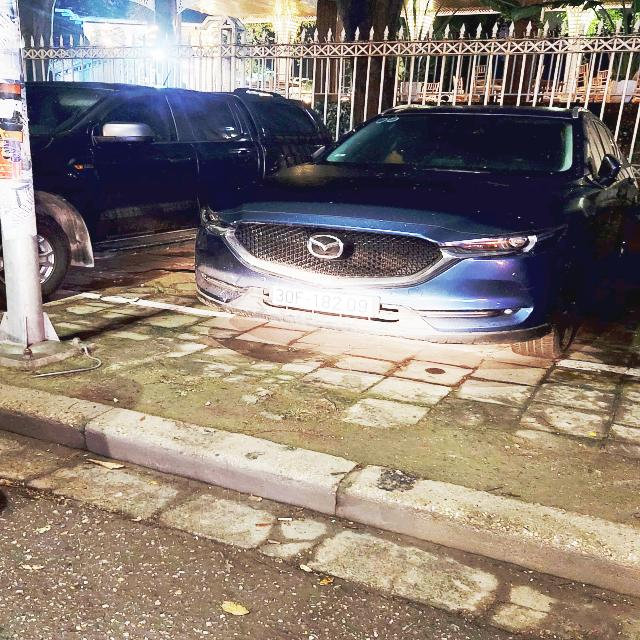license_plate: (272, 286, 375, 319)
